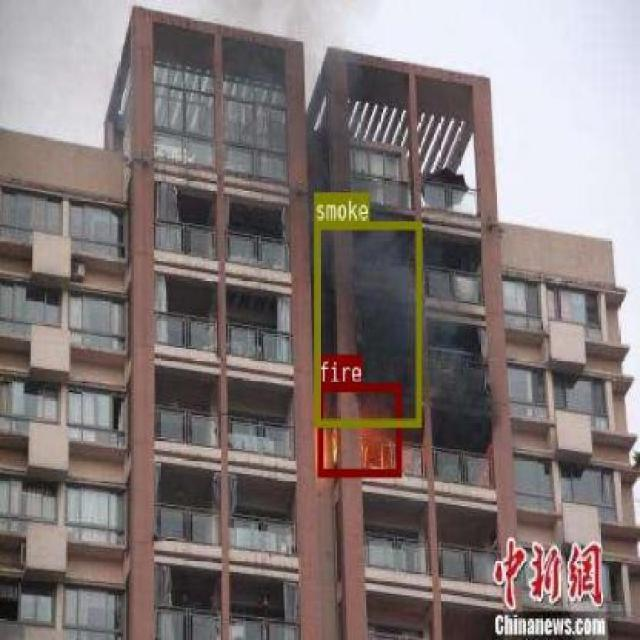fire: (316, 382, 401, 476)
smoke: (312, 220, 420, 426)
